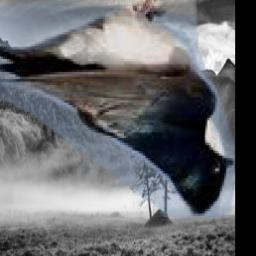Swallow: (0, 0, 234, 217)
